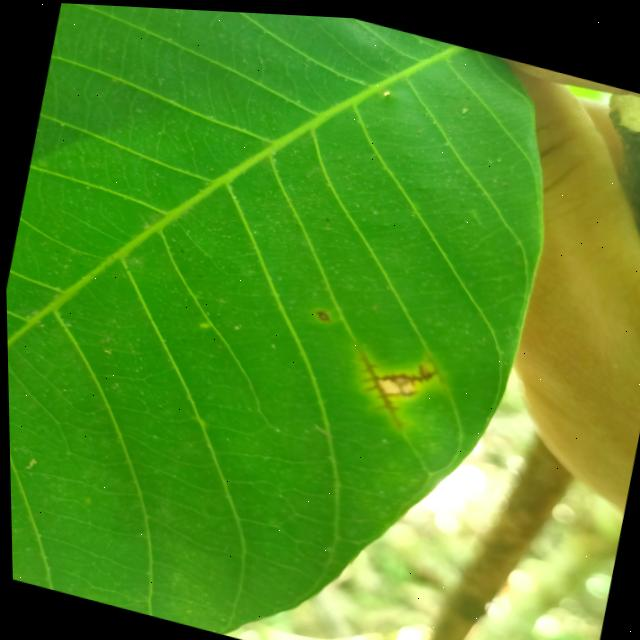Colletotrichum: (313, 307, 329, 319)
Corynespora: (341, 343, 436, 428)
